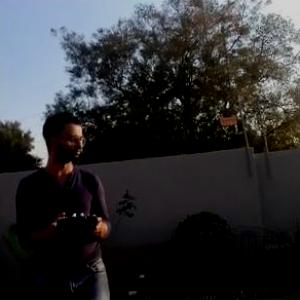follow: (12, 102, 120, 299)
